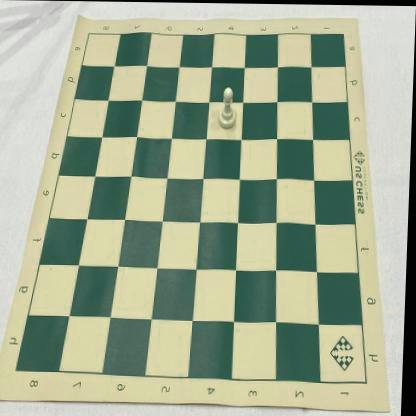white-pawn: (218, 86, 238, 130)
